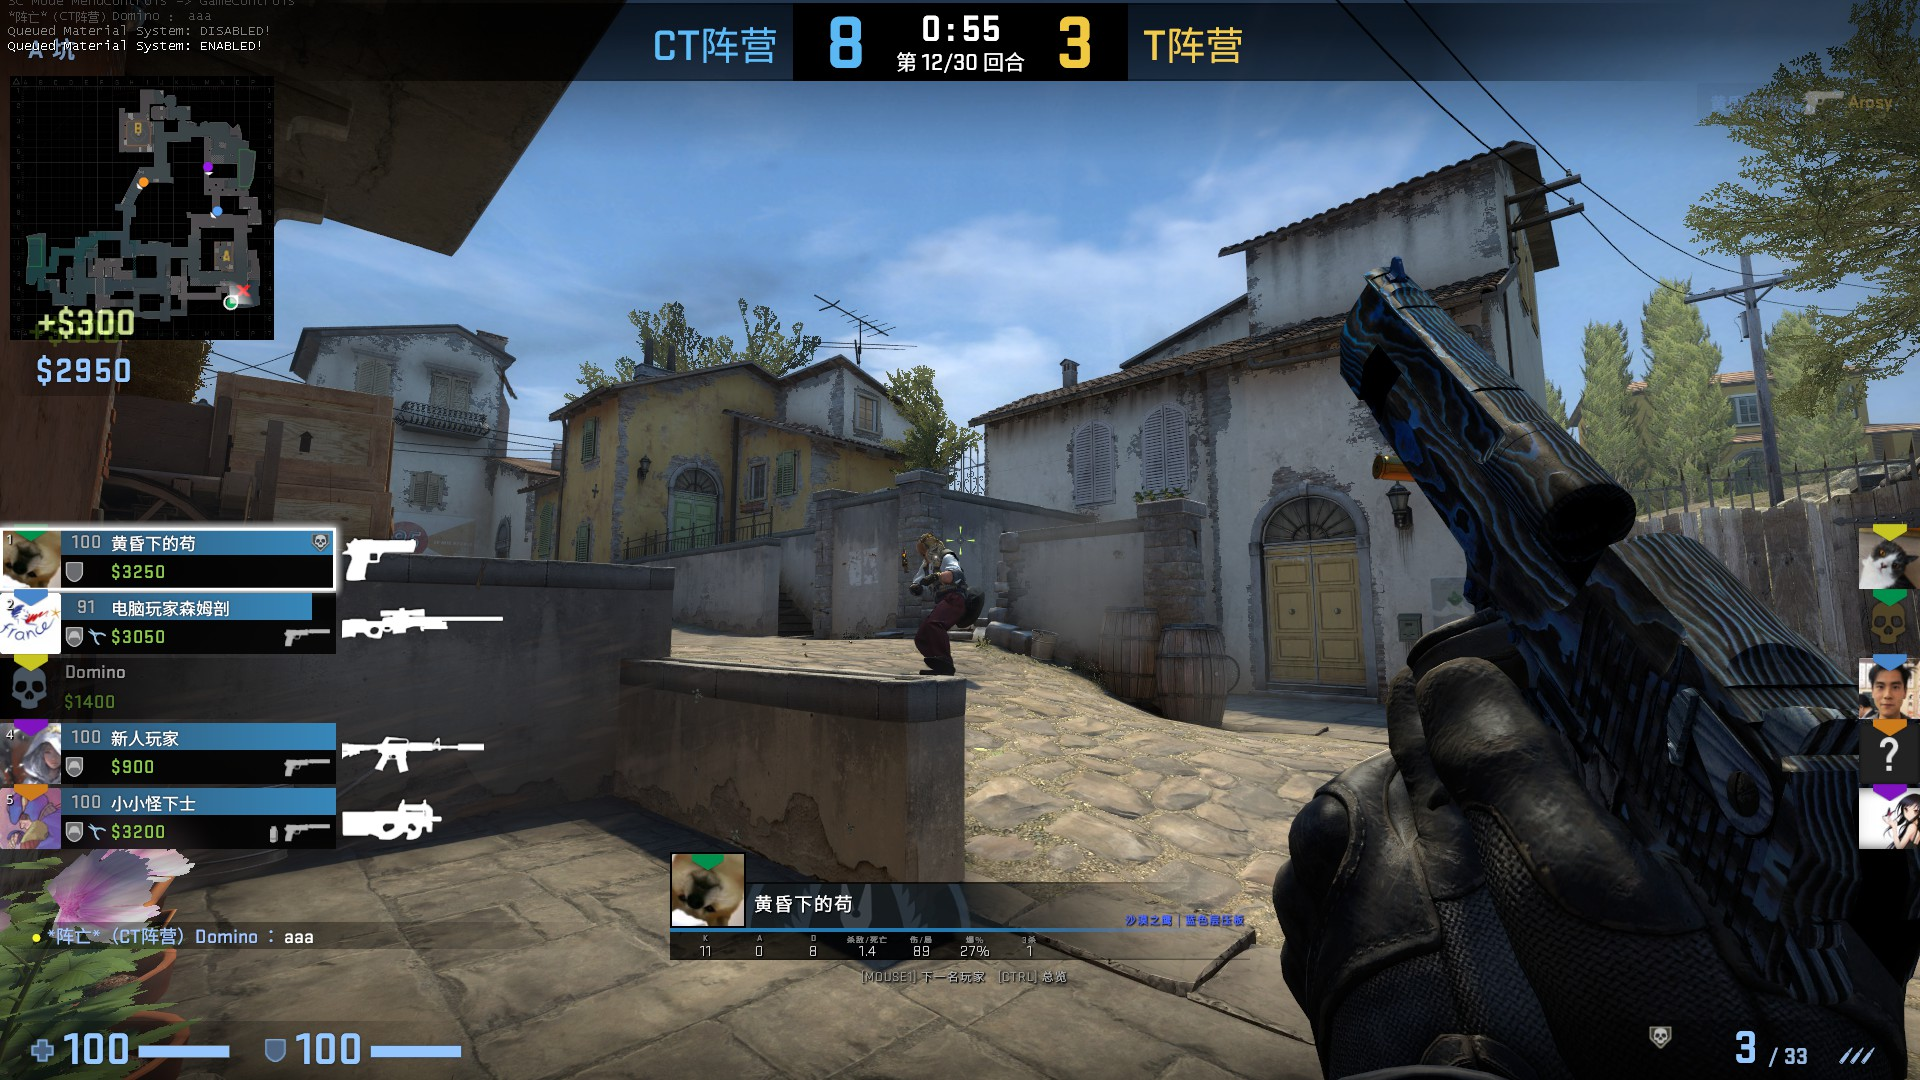head: (913, 529, 944, 564)
